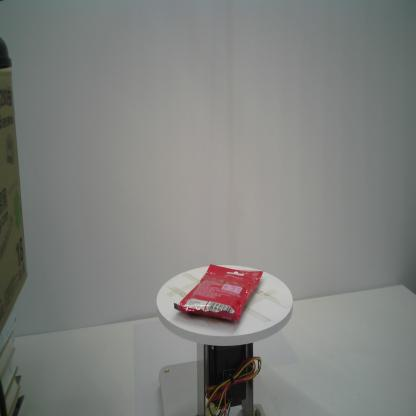Candy: (172, 261, 264, 325)
